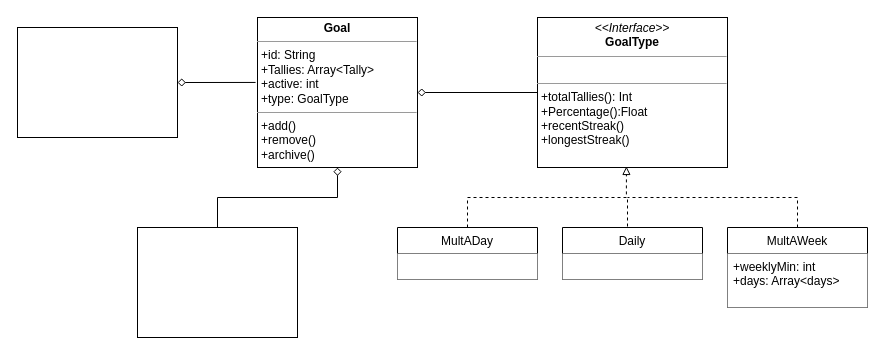
The diagram is 885 pixels wide and 355 high, and some of its shapes have lost their labels. The centre of each missing label's shape, as x and y in pixels:
"+ dailyMin: int" goes at point 467,266.
"Tally +time: timestamp +Goal_id: String +add() +delete()" goes at point 217,282.
"User +userId: String +password: String +goals: Array<Goals> + changePassword():" goes at point 97,82.
